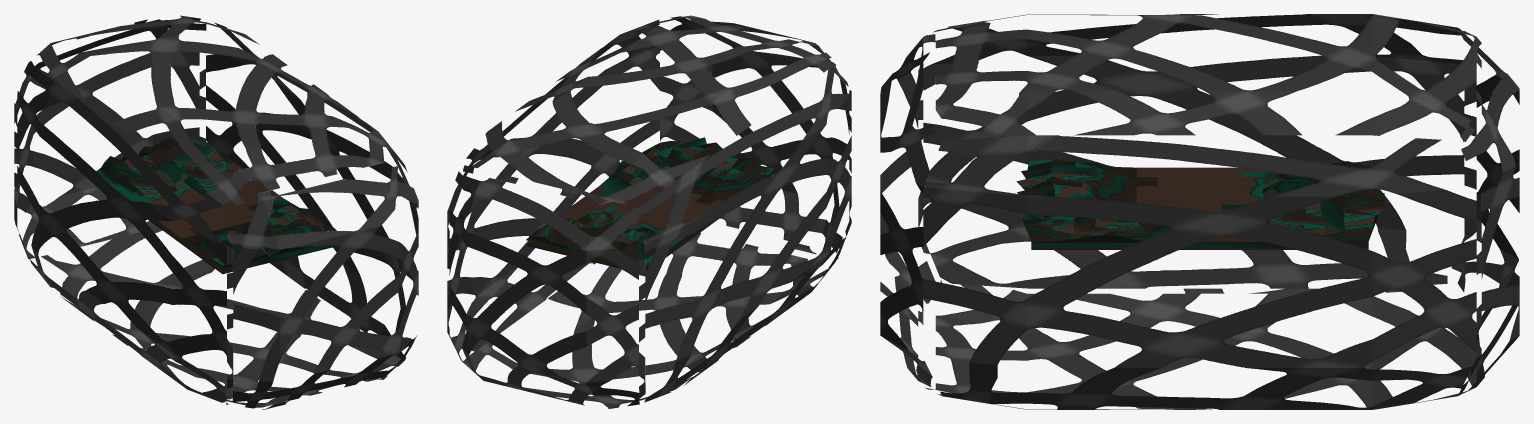
The model's file is DefaultMap.fbx.
The picture shows the model from 3 angles, left to right: view 1: azimuth 30°, elevation 25°; view 2: azimuth 150°, elevation 25°; view 3: azimuth 270°, elevation 25°; orthographic projection. The views are drawn at different scales.
Visible parts, largest first — view 1: HoveringGate, Field; view 2: HoveringGate, Field; view 3: HoveringGate, Field.
Part boxes in pixels (left/top/right/bottom): HoveringGate: left=14, top=15, right=418, bottom=409; Field: left=96, top=137, right=338, bottom=274; HoveringGate: left=447, top=15, right=851, bottom=408; Field: left=526, top=137, right=774, bottom=272; HoveringGate: left=880, top=14, right=1519, bottom=409; Field: left=1016, top=158, right=1386, bottom=249.
Size of the model in its own units: 11120 by 11715 by 21402.
